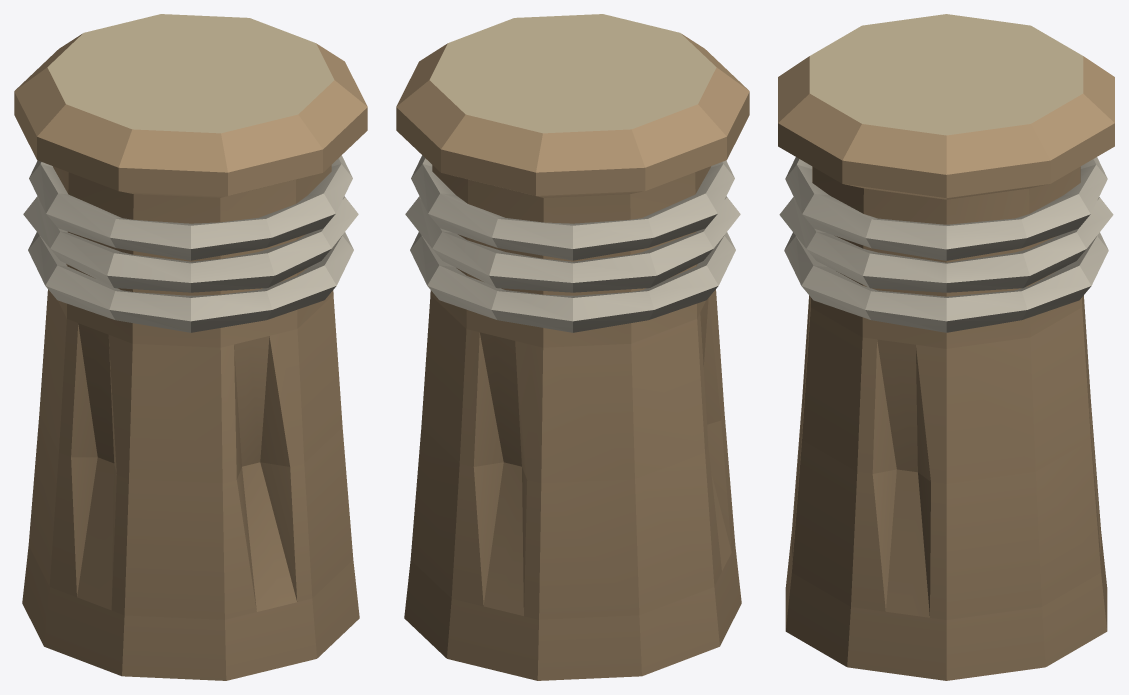
The model's file is mooring.glb.
3 renders of one model, left to right at view 1: azimuth 30°, elevation 25°; view 2: azimuth 150°, elevation 25°; view 3: azimuth 270°, elevation 25°, orthographic.
Parts seen in each view (by area): view 1: mooring; view 2: mooring; view 3: mooring.
Part boxes in pixels (x1,y1,x2,y2): mooring: (14, 14, 367, 680); mooring: (396, 14, 749, 680); mooring: (778, 14, 1114, 680).
Bounding box in the file's own units: 0.66 × 1.1 × 0.6277.
